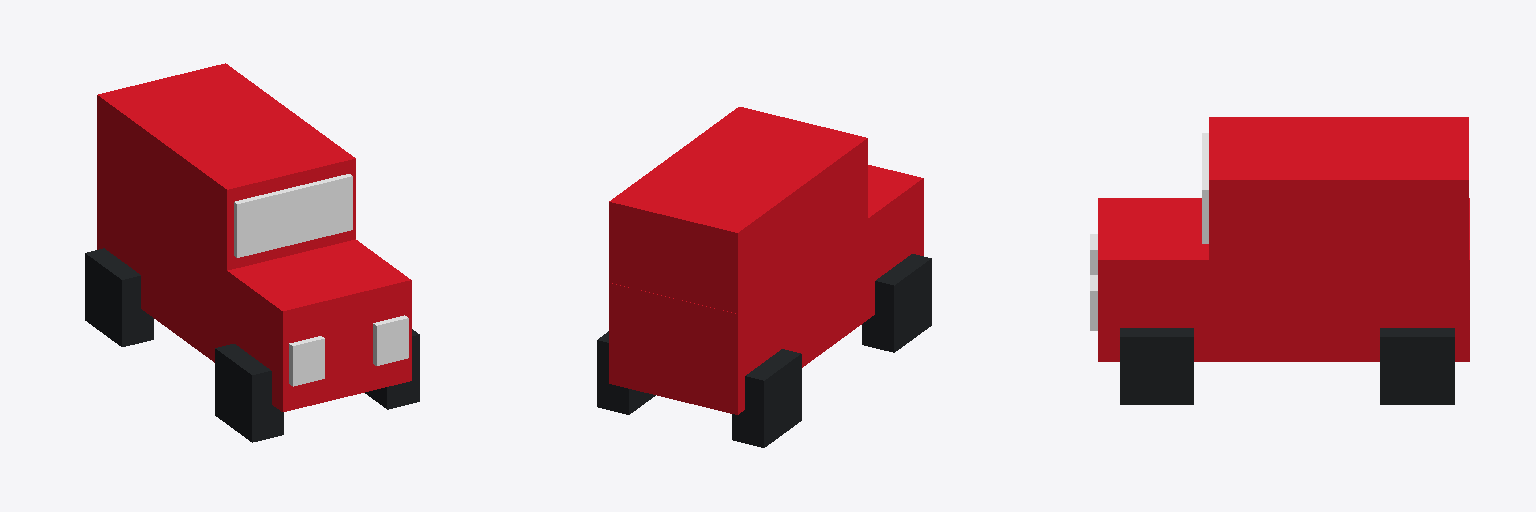
Rendered from car.obj.
The picture shows the model from 3 angles: view 1: azimuth 30°, elevation 25°; view 2: azimuth 150°, elevation 25°; view 3: azimuth 270°, elevation 25°; orthographic projection.
Visible parts, largest first — view 1: obj_0; view 2: obj_0; view 3: obj_0.
Boxes of the visible parts, box(x1,y1,x2,y2) form: obj_0: box(85, 63, 419, 442); obj_0: box(597, 107, 931, 447); obj_0: box(1090, 117, 1469, 404).
Bounding box in the file's own units: 2.6 × 3.2 × 5.1.